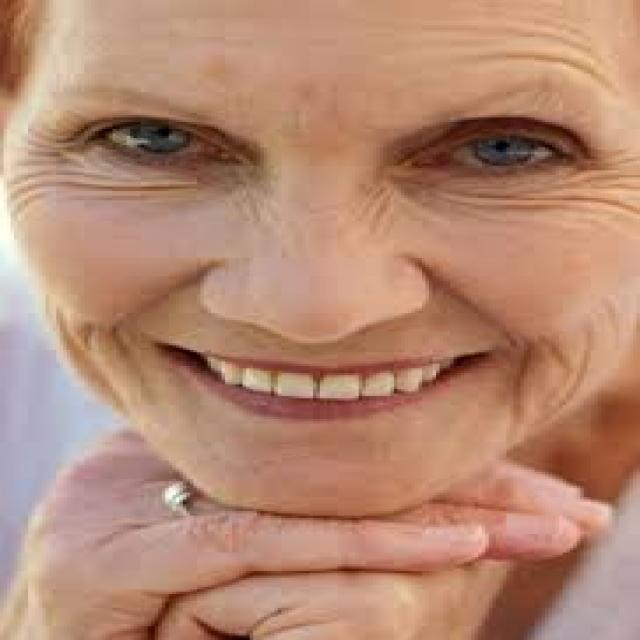Wrinkles: (425, 24, 611, 67), (466, 52, 627, 99), (531, 331, 592, 428), (8, 193, 160, 225), (437, 185, 636, 209), (5, 180, 199, 203), (503, 13, 601, 47), (5, 168, 115, 185), (567, 159, 636, 179), (543, 333, 576, 372), (363, 185, 388, 226), (554, 173, 636, 184), (372, 194, 393, 236), (261, 180, 276, 216), (245, 181, 258, 219), (37, 125, 66, 141), (19, 149, 61, 156), (600, 148, 621, 157)
